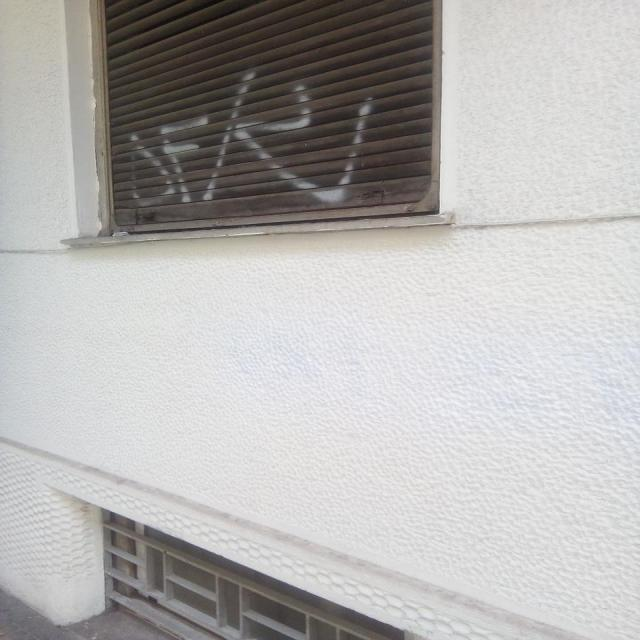nonspitting: (124, 70, 373, 204)
